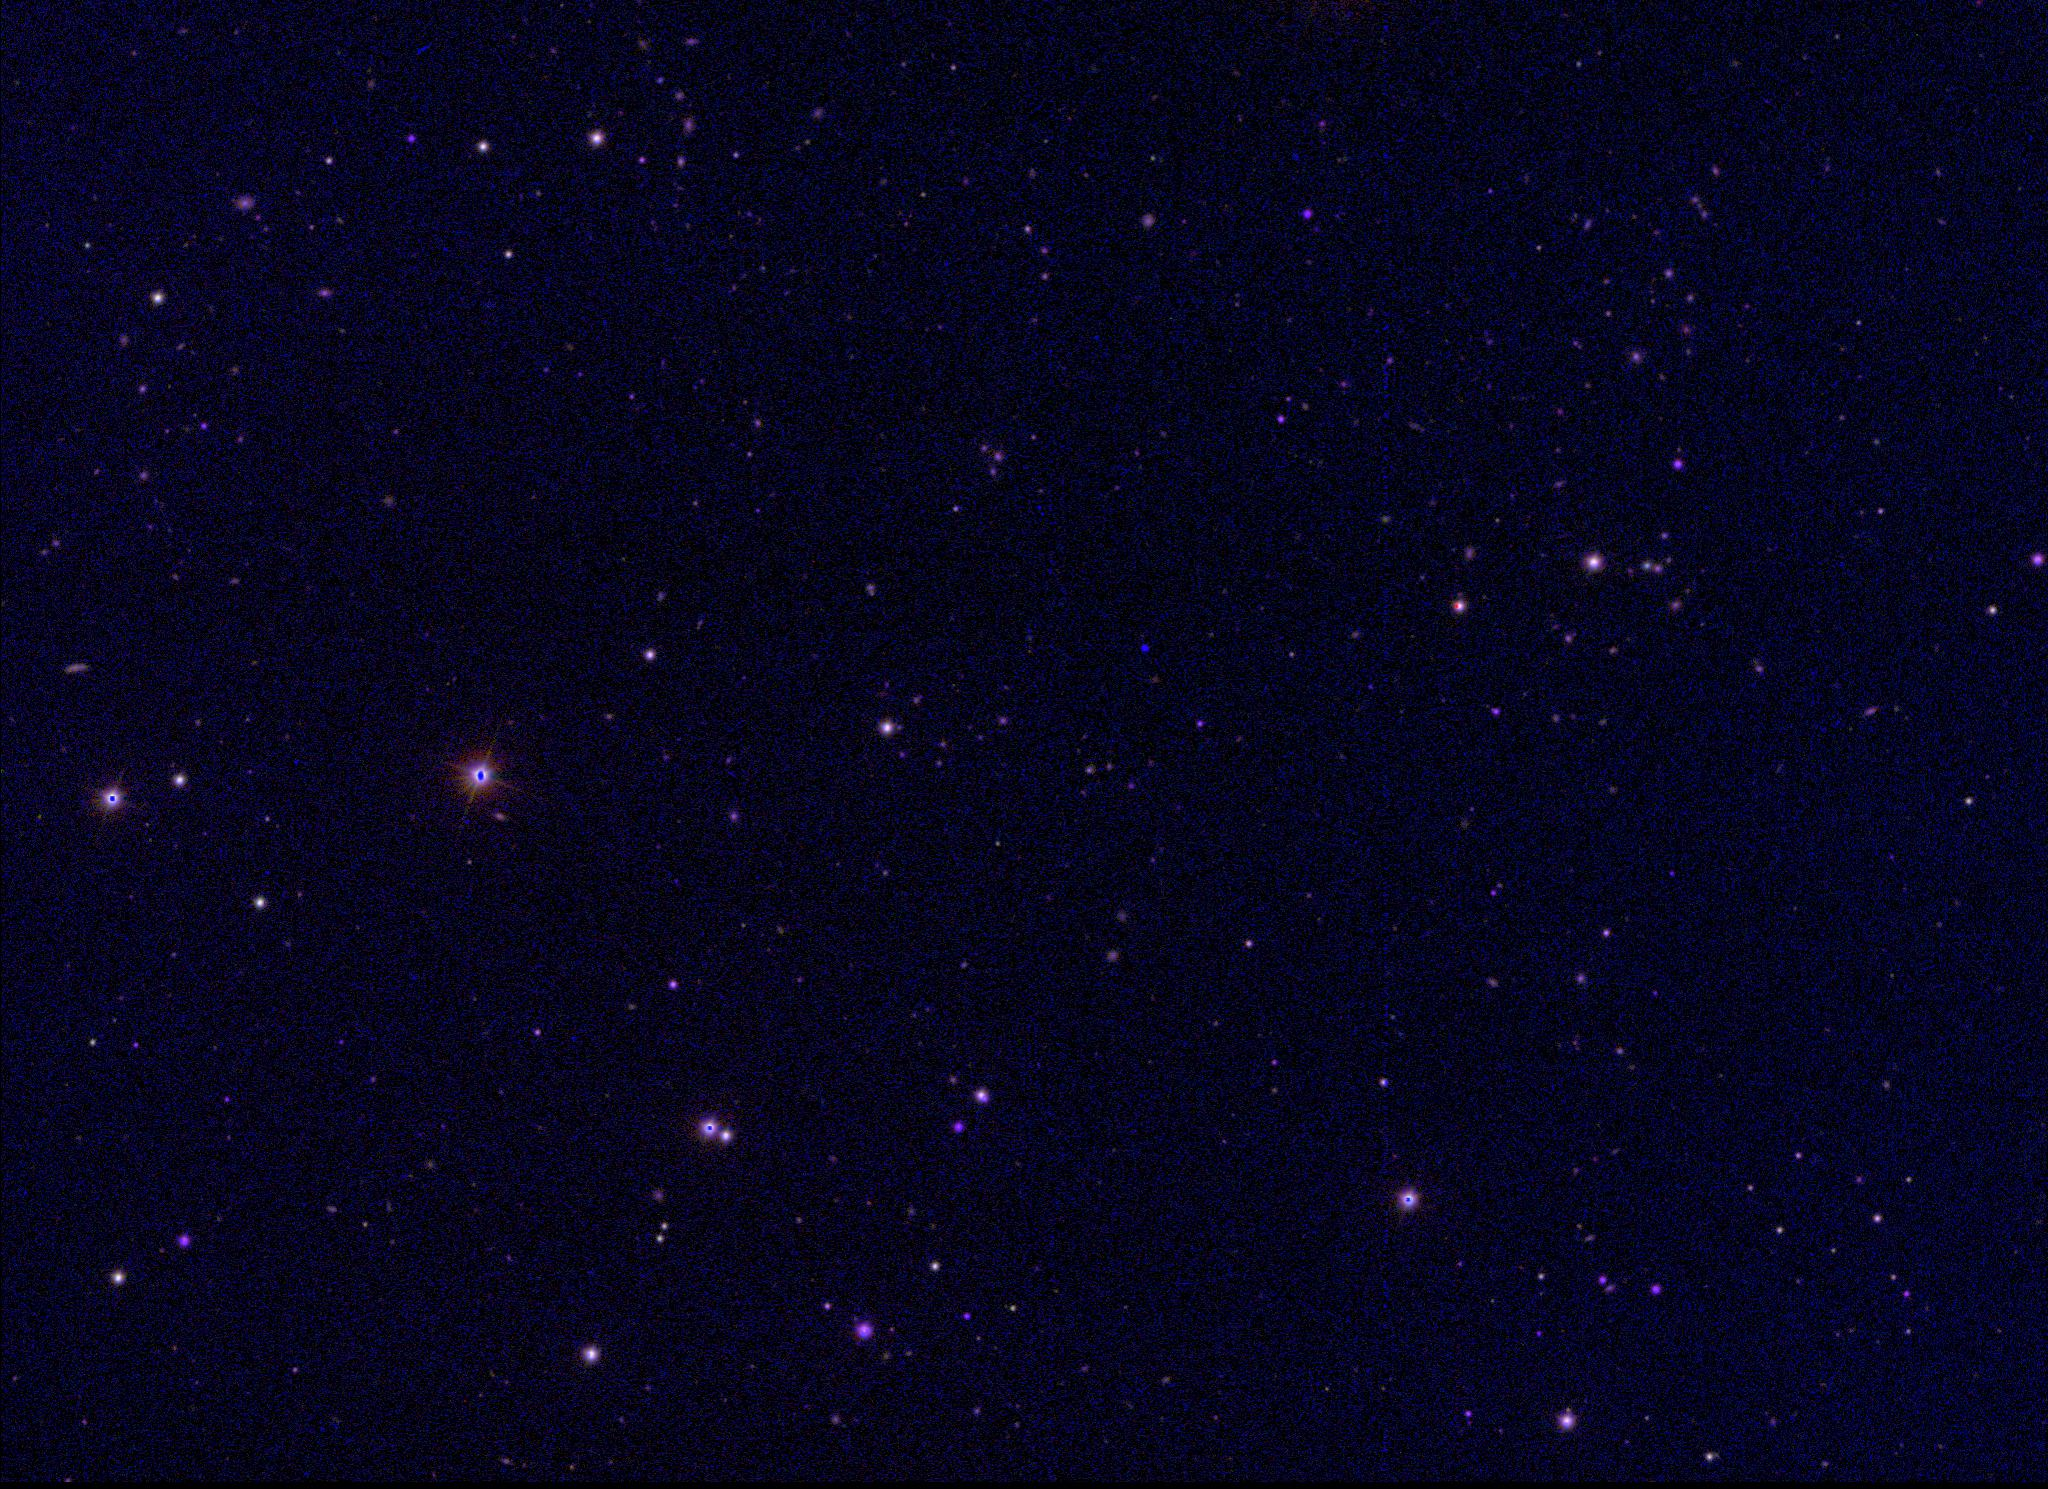L: (1137, 638, 1151, 652)
